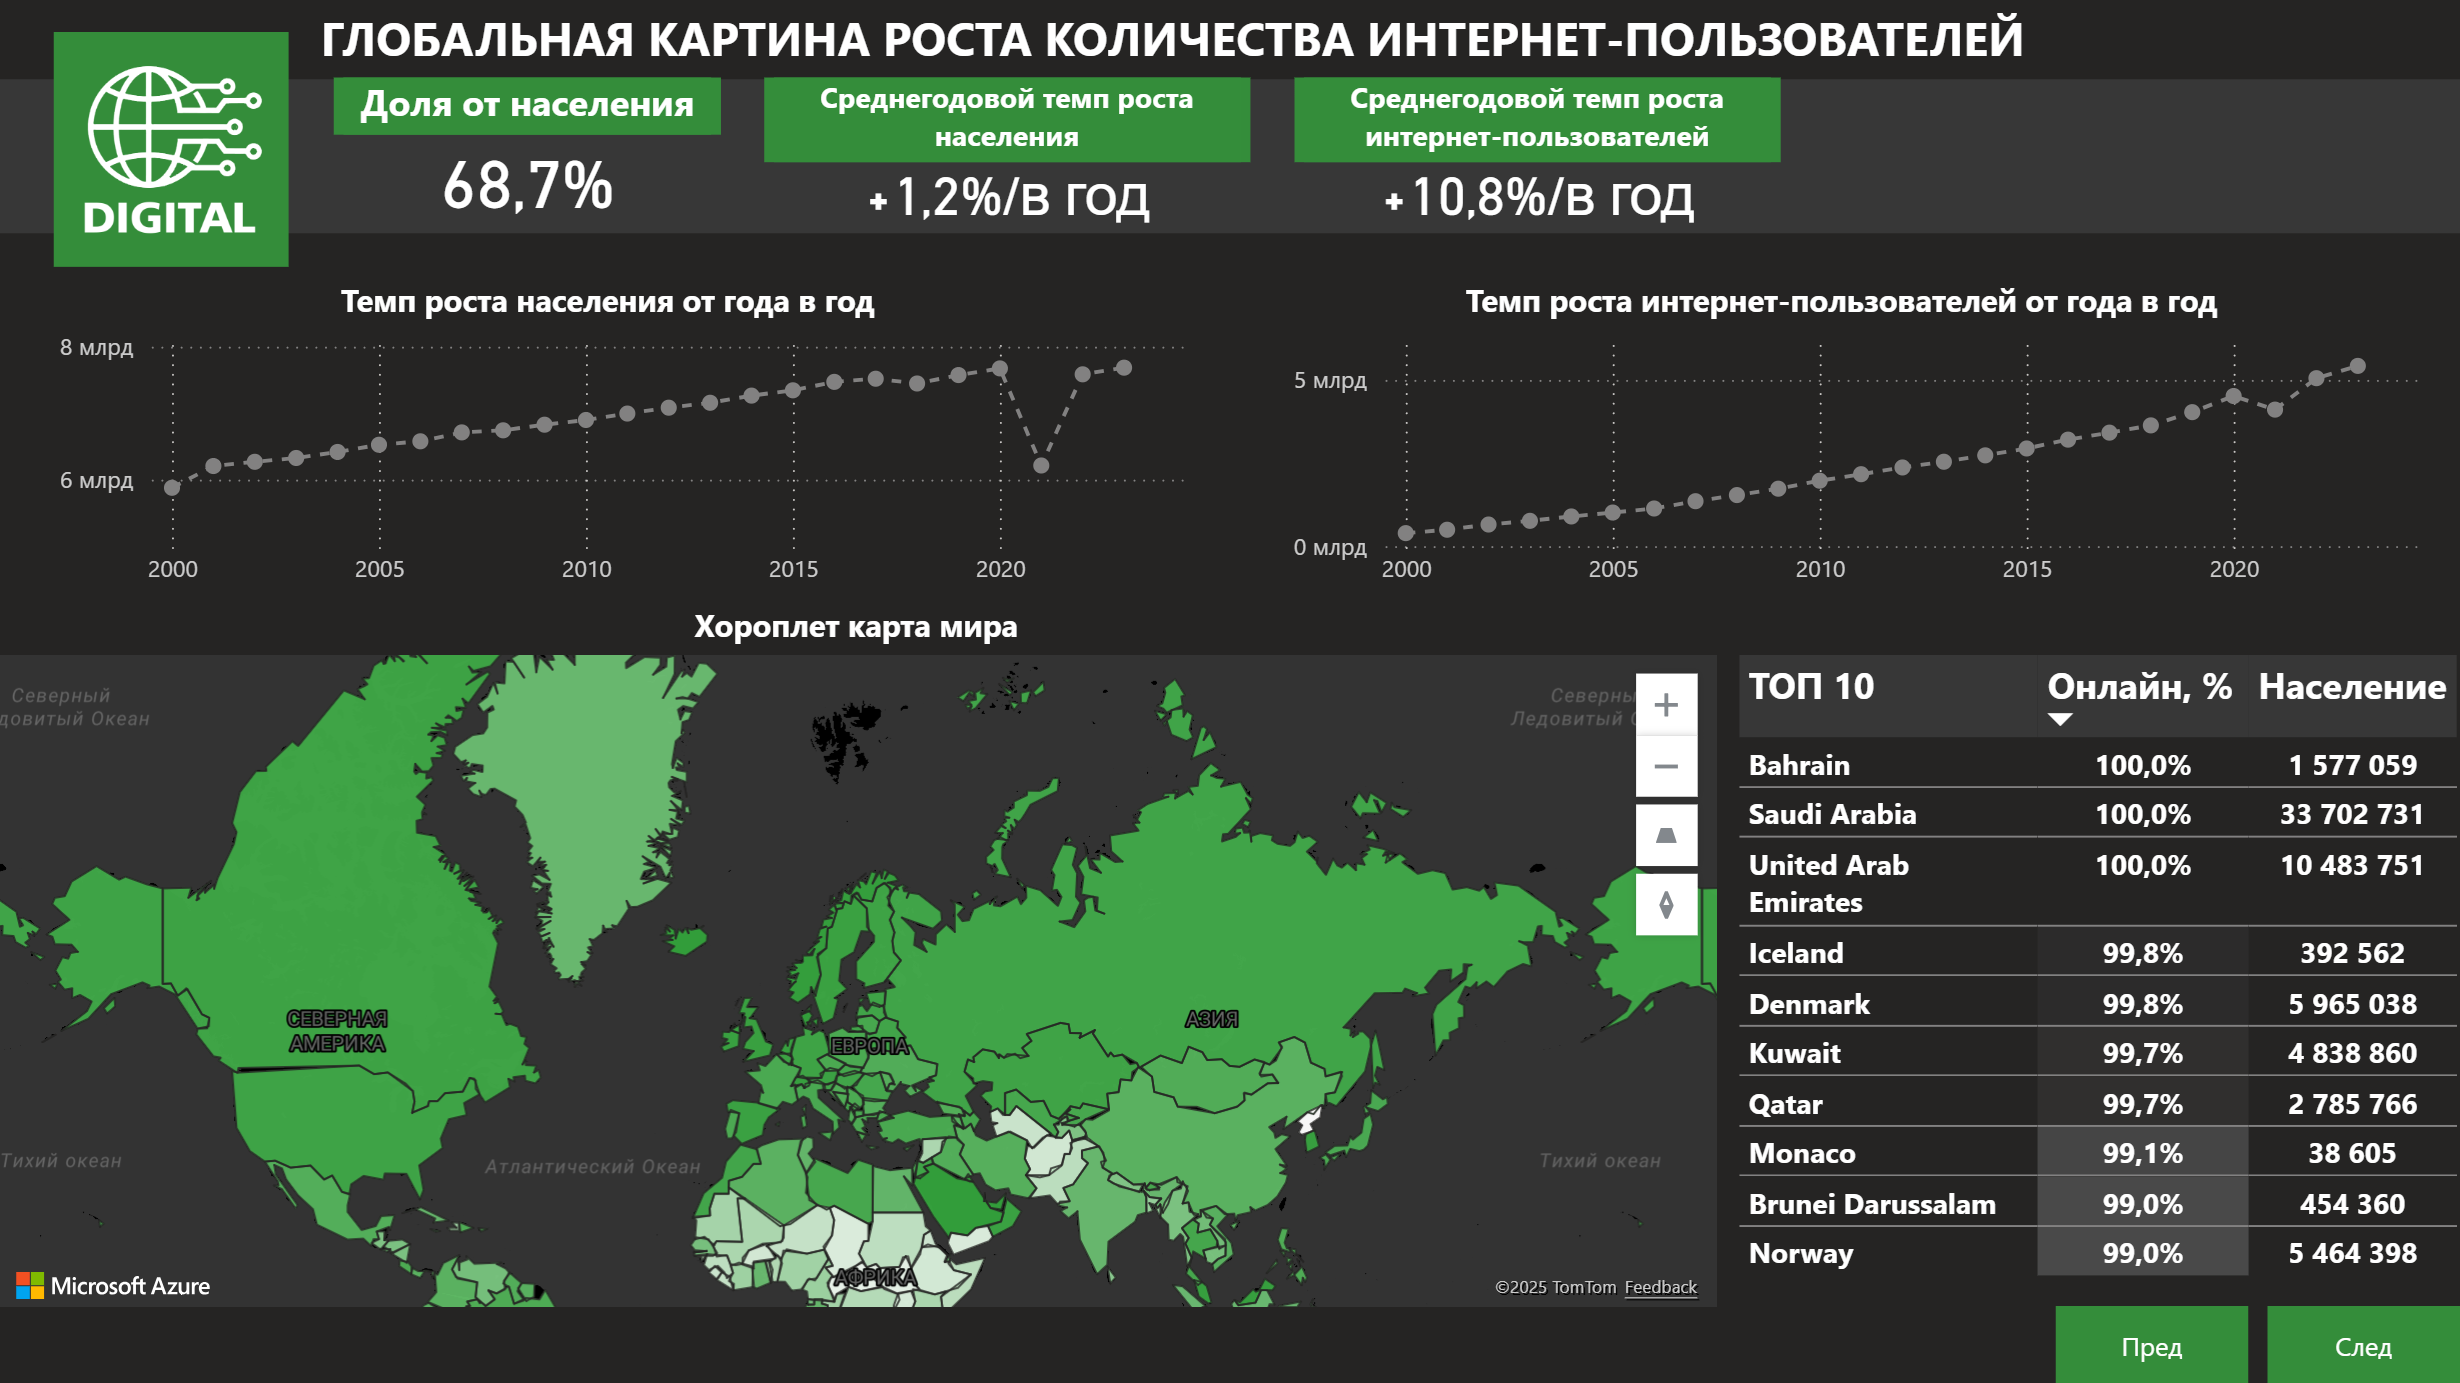

Layout of this report page (visuals, bound fields, positions):
{"tool":"powerbi","page":{"name":"global","canvas":[1280,720],"ordinal":1},"visuals":[{"type":"textbox","title":"шапка","box":[163.3,0,1116.7,63.3],"z":0,"group":"g1"},{"type":"shape","box":[30,18.4,122,122],"z":0,"group":"g2"},{"type":"azureMap","title":"Хороплет карта мира","fields":{"Category":["regions.Country Name"]},"box":[0,314.8,893.8,365],"z":500,"group":"g3"},{"type":"image","box":[36.1,24.4,110.1,109.6],"z":1000,"group":"g2"},{"type":"shape","box":[0,42.4,1280,80],"z":1000,"group":"g1"},{"type":"lineChart","title":"Темп роста населения от года в год","fields":{"Category":["data.Year"],"Y":["calculations_global.global_population"]},"box":[0,146,640,178.5],"z":1000,"group":"g3"},{"type":"group","id":"g1","title":"header","box":[0,0,1280,140.4],"z":1500},{"type":"group","id":"g2","title":"лого","box":[30,18.4,122,122],"z":1500,"group":"g1"},{"type":"group","id":"g3","title":"визуал","box":[0,146,1280,538.4],"z":2000},{"type":"lineChart","title":"Темп роста интернет-пользователей от года в год","fields":{"Category":["data.Year"],"Y":["calculations_global.connected_people"]},"box":[651.6,146,628.4,178.5],"z":2000,"group":"g3"},{"type":"tableEx","title":"лидер","fields":{"Values":["regions.Country Name","calculations.percent_connected","calculations_global.global_population"]},"box":[903.5,324.7,376,158.8],"z":2500,"group":"g3"},{"type":"tableEx","title":"аутсайдер","fields":{"Values":["regions.Country Name","calculations.percent_connected","calculations_global.global_population"]},"box":[904,501.7,376,182.7],"z":3000,"group":"g3"},{"type":"group","id":"g4","title":"nav","box":[1070,680,210,40],"z":3000},{"type":"group","id":"g5","title":"kpi","box":[175.6,42,751.8,80.8],"z":4000},{"type":"actionButton","title":"след","box":[1180,680,100,40],"z":4000,"group":"g4"},{"type":"actionButton","title":"пред","box":[1070,680,100,40],"z":5000,"group":"g4"},{"type":"card","title":"Среднегодовой темп роста интернет-пользователей","fields":{"Values":["calculations.growth_rate_CAGR"]},"box":[675,42,252.3,80.6],"z":7000,"group":"g5"},{"type":"card","title":"Среднегодовой темп роста населения","fields":{"Values":["calculations.growth_rate_CAGR_pop"]},"box":[399,42.3,252.3,80.6],"z":7250,"group":"g5"},{"type":"card","title":"Доля от населения","fields":{"Values":["calculations.percent_connected"]},"box":[175.6,42.2,201.1,80],"z":7500,"group":"g5"}]}

Visuals, with their boxes in screenshot pixels (x1, y1, x2, y2), scaled from the page's 1280x720 canvas onto the 2460x1383 screenshot:
"шапка" textbox: [314, 0, 2459, 122]
shape: [58, 35, 292, 270]
"Хороплет карта мира" azureMap: [0, 605, 1718, 1306]
image: [69, 47, 281, 257]
shape: [0, 81, 2459, 235]
"Темп роста населения от года в год" lineChart: [0, 280, 1230, 623]
"header" group: [0, 0, 2459, 270]
"лого" group: [58, 35, 292, 270]
"визуал" group: [0, 280, 2459, 1315]
"Темп роста интернет-пользователей от года в год" lineChart: [1252, 280, 2459, 623]
"лидер" tableEx: [1736, 624, 2459, 929]
"аутсайдер" tableEx: [1737, 964, 2459, 1315]
"nav" group: [2056, 1306, 2459, 1382]
"kpi" group: [337, 81, 1782, 236]
"след" actionButton: [2268, 1306, 2459, 1382]
"пред" actionButton: [2056, 1306, 2249, 1382]
"Среднегодовой темп роста интернет-пользователей" card: [1297, 81, 1782, 235]
"Среднегодовой темп роста населения" card: [767, 81, 1252, 236]
"Доля от населения" card: [337, 81, 724, 235]
